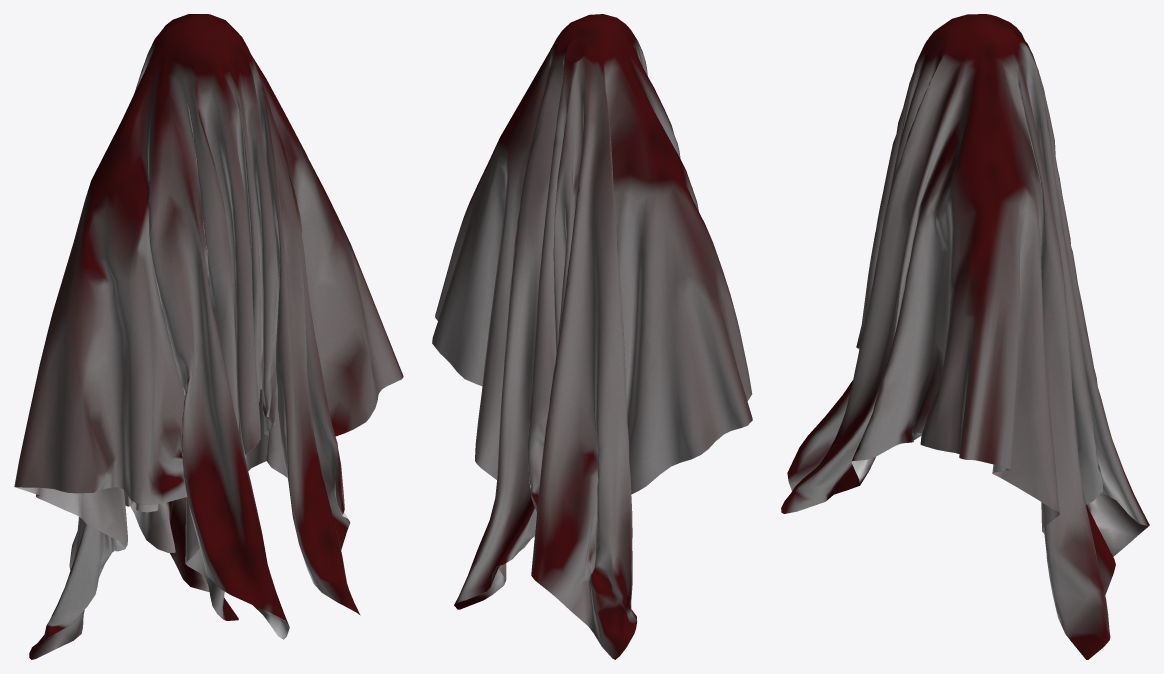
Rendered from ghost.glb.
The picture shows the model from 3 angles, left to right: view 1: azimuth 30°, elevation 25°; view 2: azimuth 150°, elevation 25°; view 3: azimuth 270°, elevation 25°; orthographic projection. The views are drawn at different scales.
Visible parts, largest first — view 1: gh_low_Default; view 2: gh_low_Default; view 3: gh_low_Default.
Boxes of the visible parts, x1,y1,x2,y2 form: gh_low_Default: [14, 14, 403, 659]; gh_low_Default: [432, 14, 752, 659]; gh_low_Default: [781, 14, 1149, 659].
Bounding box in the file's own units: 0.9733 × 1.65 × 0.9169.
1 material, 1 textured.
